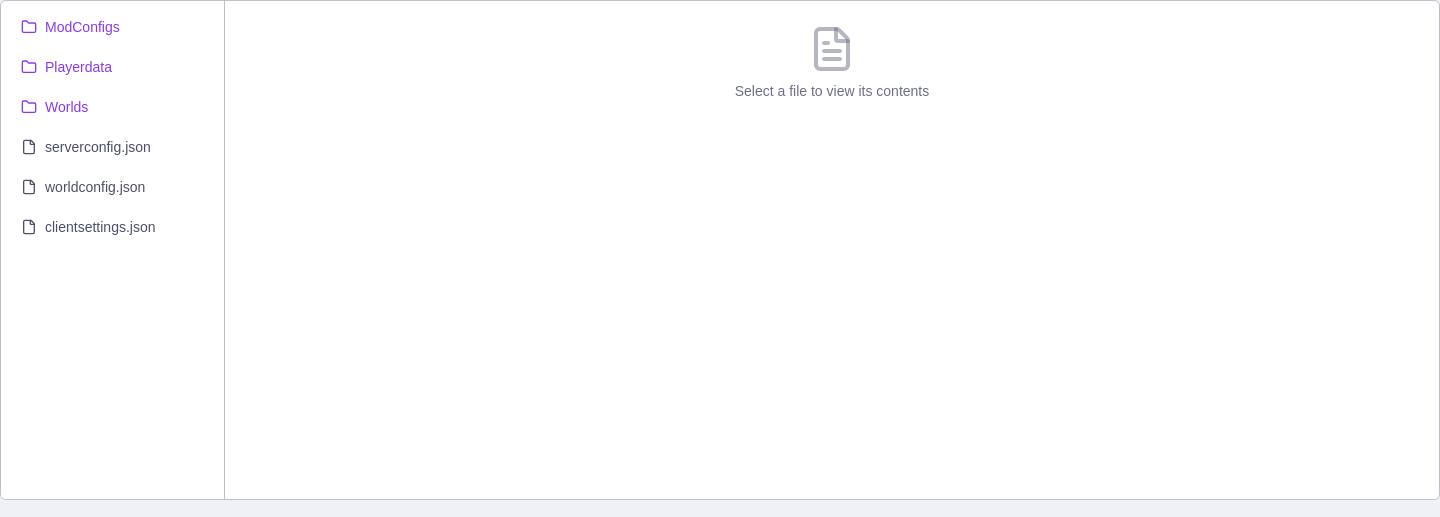
Scenario: FileManagerPanel › directory navigation (Story 9.7) › clears file selection when navigating to directory
Expected: the element with test id "file-list" is shown, [9,9,216,245]
// Select a file first
Click the option with test id "file-item-serverconfig.json": x=112, y=147 [9,129,216,165]
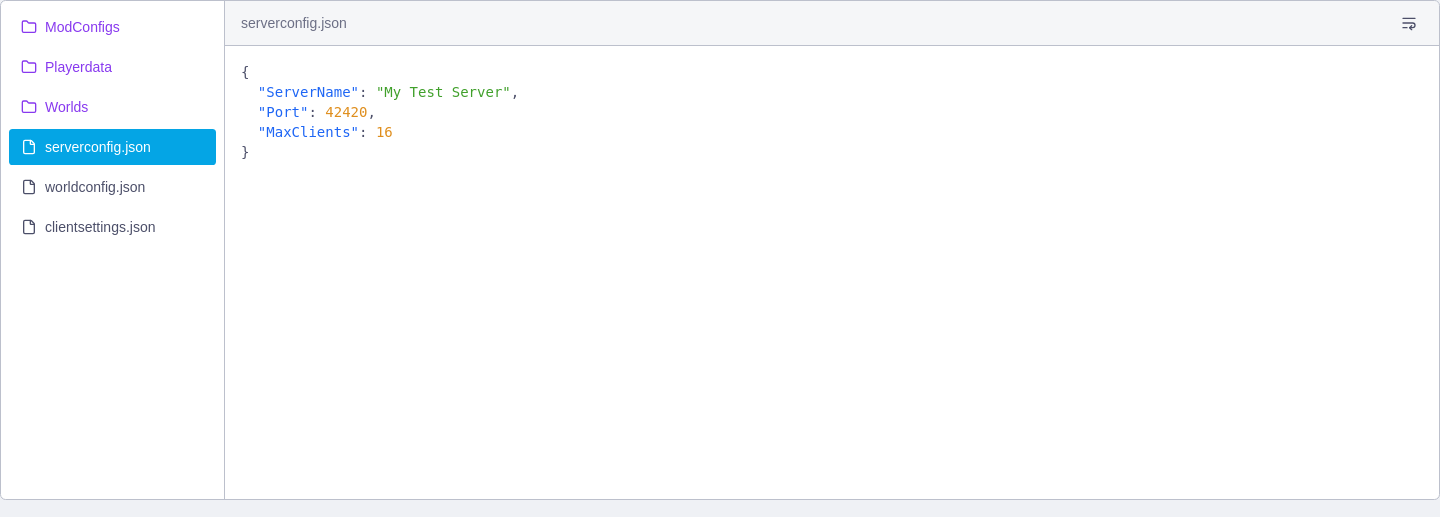
Expected: the element with test id "file-viewer" is shown, [225,1,1439,160]
// Navigate into directory
Click the option with test id "file-item-ModConfigs": x=112, y=27 [9,9,216,45]
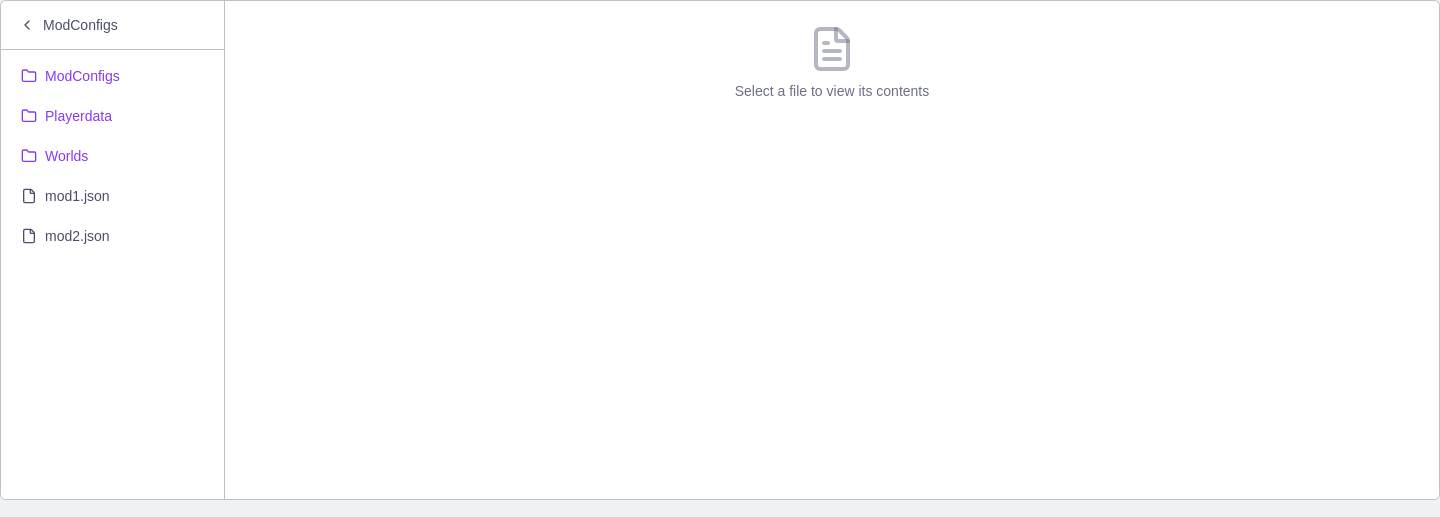
Now the element with test id "file-viewer-empty" is shown, box [735,25,929,99]
